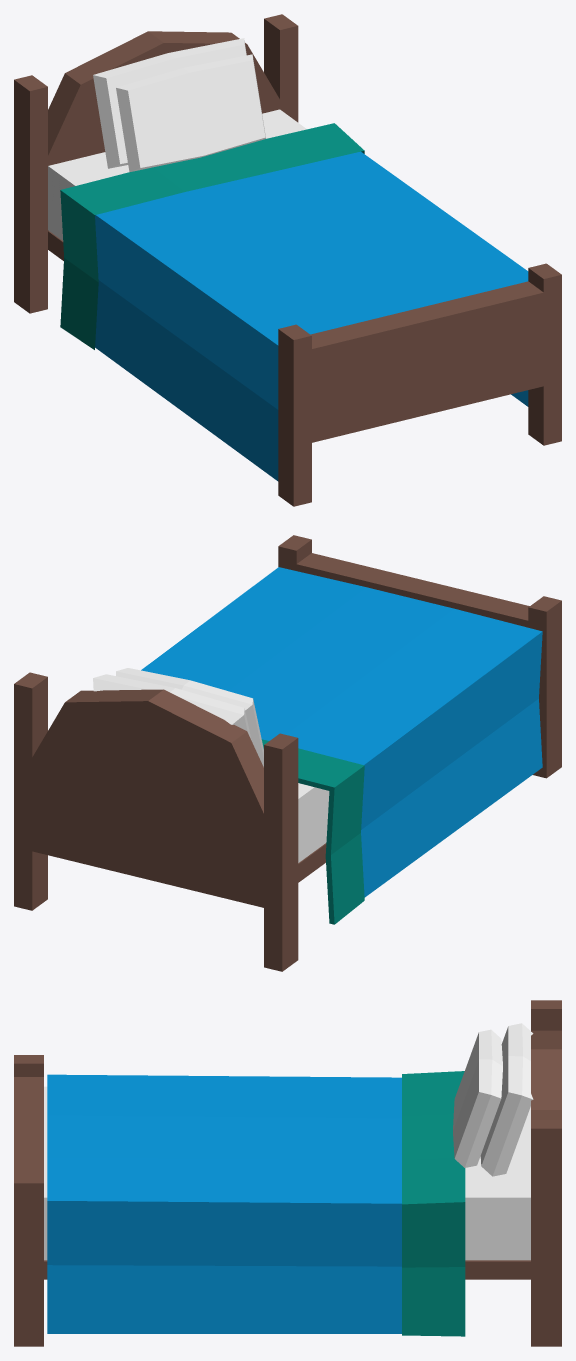
File: Bed2.obj
The picture shows the model from 3 angles, top to bottom: view 1: azimuth 30°, elevation 25°; view 2: azimuth 150°, elevation 25°; view 3: azimuth 270°, elevation 25°; orthographic projection. The views are drawn at different scales.
Parts seen in each view (by area): view 1: Bed_01_Cube.044; view 2: Bed_01_Cube.044; view 3: Bed_01_Cube.044.
Part boxes in pixels (bbox=[...]): Bed_01_Cube.044: bbox=[14, 14, 561, 506]; Bed_01_Cube.044: bbox=[14, 535, 561, 971]; Bed_01_Cube.044: bbox=[14, 1000, 561, 1346].
Size of the model in its own units: 11.98 by 9.94 by 21.16.
